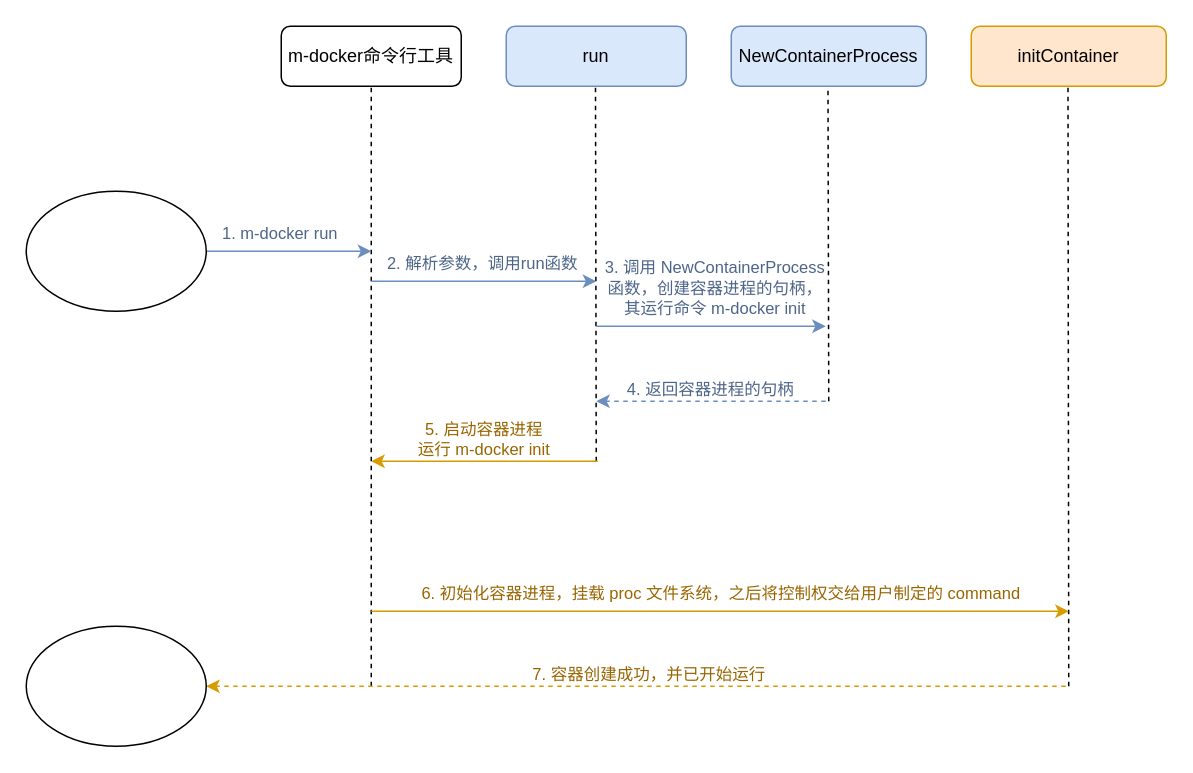
This 1193x773 diagram has some shape labels left out. Here are the shapes that lost their labels. From the top down, the box of each, then its label:
(25, 190, 206, 311): 开始
(25, 625, 206, 746): 结束
